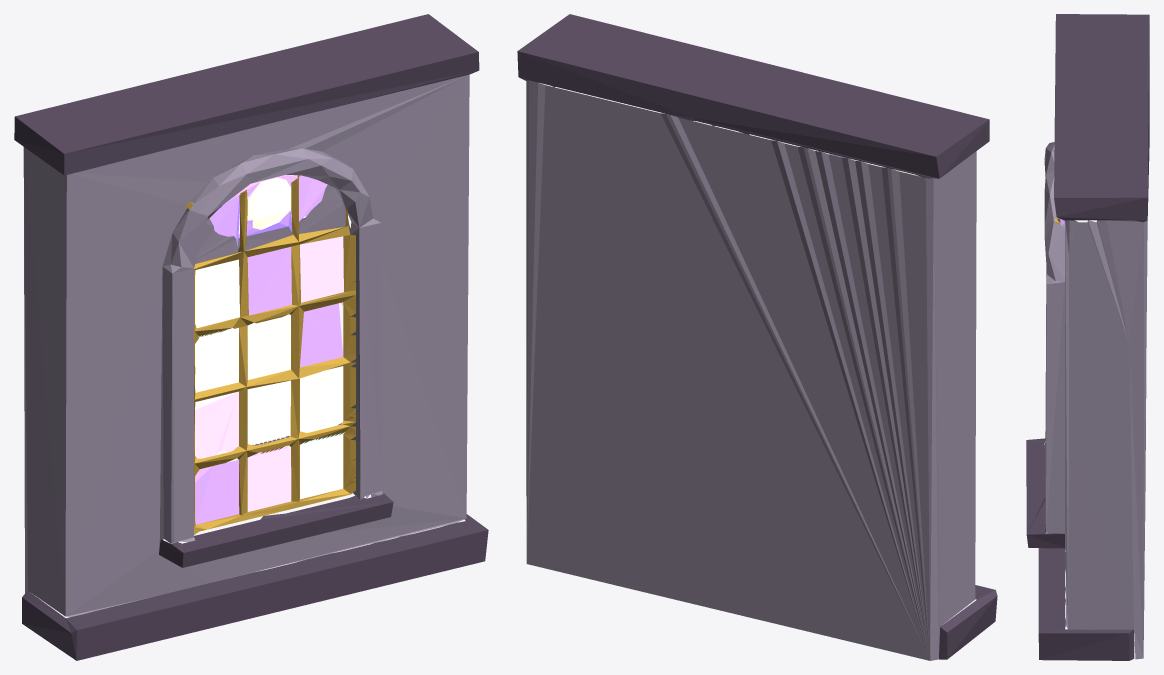
File: stained_glass.glb
3 views of the same model, side by side, from view 1: azimuth 30°, elevation 25°; view 2: azimuth 150°, elevation 25°; view 3: azimuth 270°, elevation 25° (orthographic). The views are drawn at different scales.
Visible parts, largest first — view 1: stained_glass; view 2: stained_glass; view 3: stained_glass.
Part boxes in pixels (x1,y1,x2,y2): stained_glass: [14, 14, 488, 660]; stained_glass: [517, 14, 997, 660]; stained_glass: [1026, 14, 1149, 660].
Size of the model in its own units: 3.32 by 3.85 by 0.9262.
